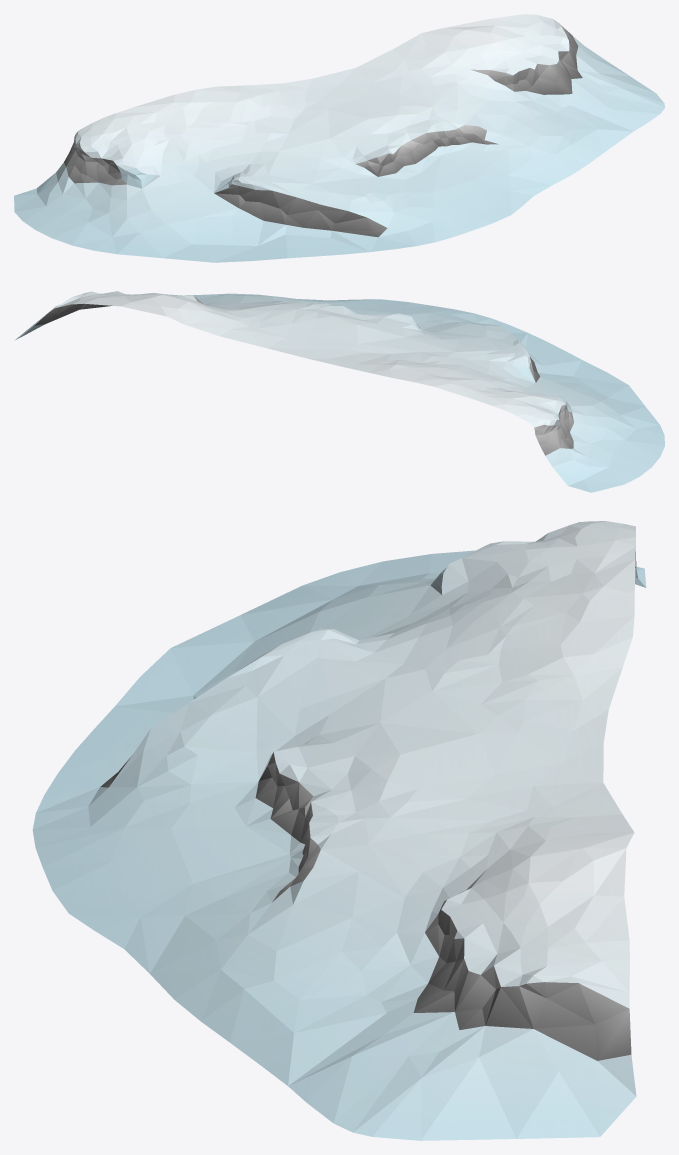
Rendered from Cliff_5.FBX.
3 views of the same model, one above another, from view 1: azimuth 30°, elevation 25°; view 2: azimuth 150°, elevation 25°; view 3: azimuth 270°, elevation 25° (orthographic). The views are drawn at different scales.
Parts seen in each view (by area): view 1: Cliff_5; view 2: Cliff_5; view 3: Cliff_5.
Boxes of the visible parts, bbox=[...] form: Cliff_5: bbox=[14, 14, 664, 262]; Cliff_5: bbox=[15, 291, 664, 492]; Cliff_5: bbox=[32, 521, 646, 1140].
Bounding box in the file's own units: 205 × 22.05 × 89.9.
